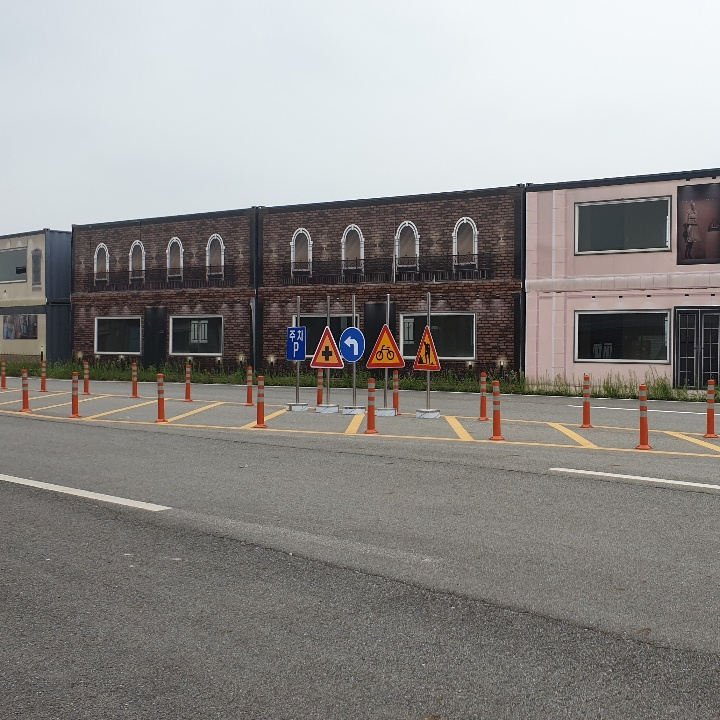bicycle: (368, 326, 406, 365)
const: (417, 336, 438, 362)
inter: (317, 341, 335, 363)
left: (341, 330, 359, 356)
parking: (287, 336, 301, 355)
